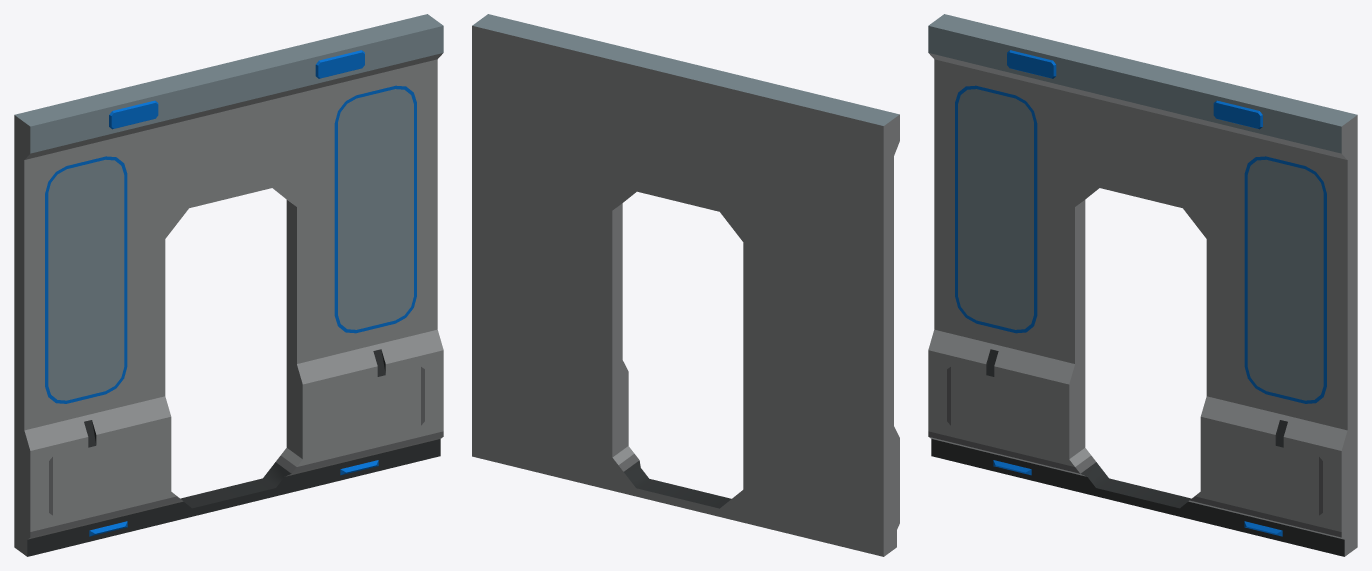
The model's file is Wall_type_B_052.fbx.
3 renders of one model, left to right at view 1: azimuth 30°, elevation 25°; view 2: azimuth 150°, elevation 25°; view 3: azimuth 330°, elevation 25°, orthographic.
Visible parts, largest first — view 1: Wall_type_B_052; view 2: Wall_type_B_052; view 3: Wall_type_B_052.
Part boxes in pixels (bbox=[...]): Wall_type_B_052: bbox=[14, 14, 443, 556]; Wall_type_B_052: bbox=[472, 14, 899, 556]; Wall_type_B_052: bbox=[928, 14, 1357, 556].
Size of the model in its own units: 400 by 28.98 by 400.
